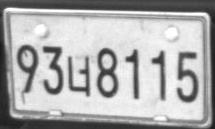1: (148, 49, 171, 101), (123, 48, 145, 100)
3: (41, 45, 63, 94)
5: (175, 50, 199, 103)
8: (95, 46, 119, 98)
9: (15, 43, 39, 93)
너: (66, 55, 91, 98)
